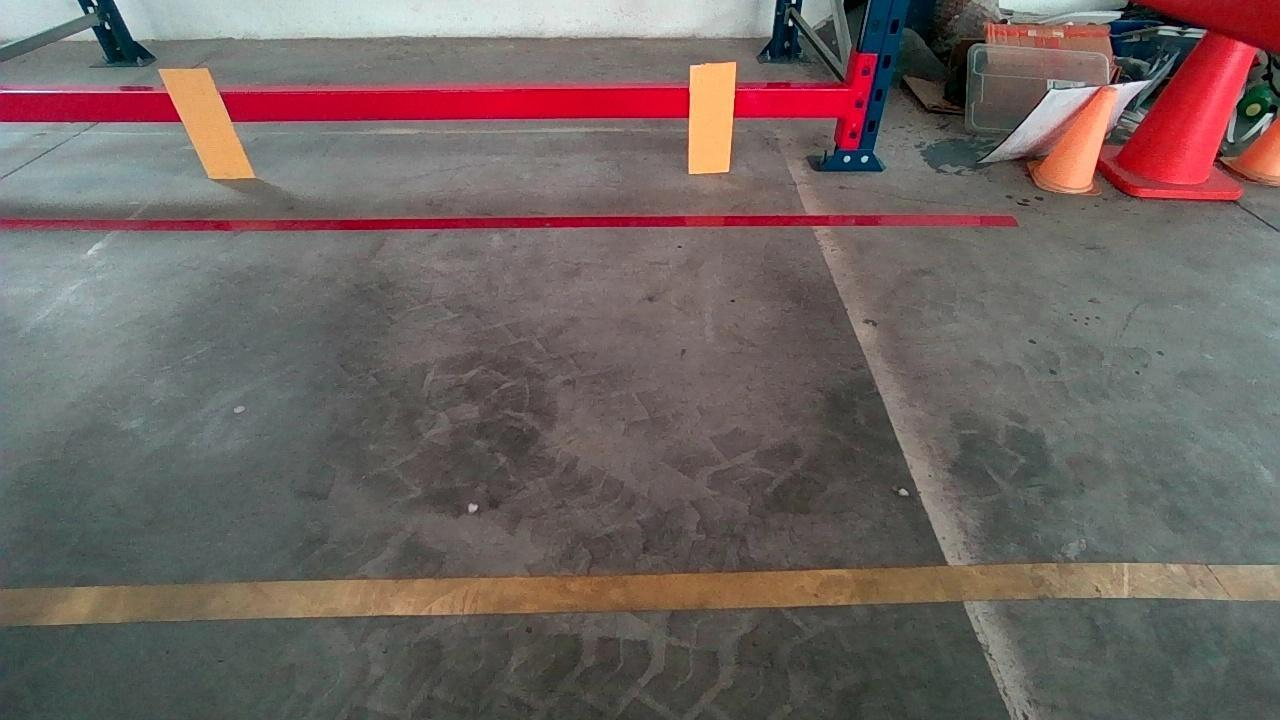h_rack: (5, 78, 842, 129)
orange_strip: (160, 68, 255, 177), (688, 64, 735, 171)
red_line: (5, 211, 977, 233)
yellow_line: (0, 558, 1272, 626)
